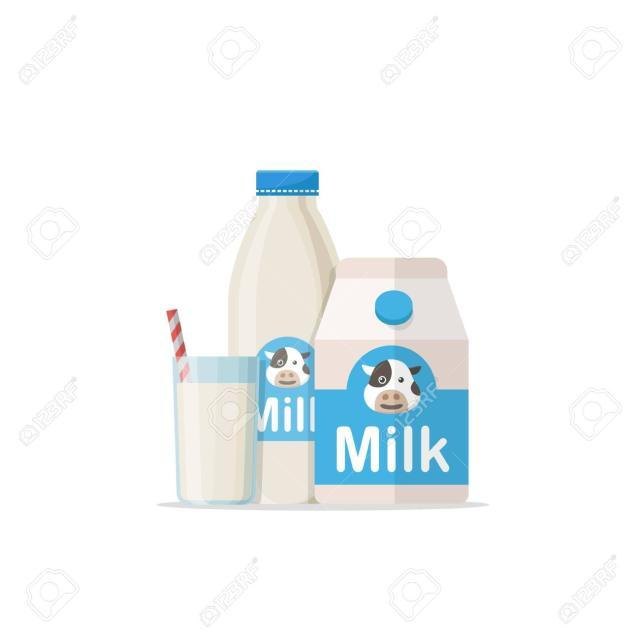Carton: (301, 240, 478, 516)
